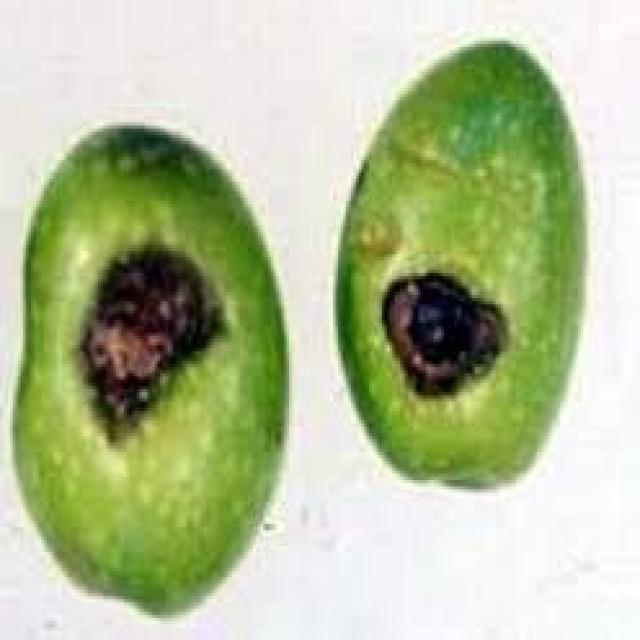Olive Fruit Fly: (13, 125, 286, 615), (338, 41, 583, 483)
